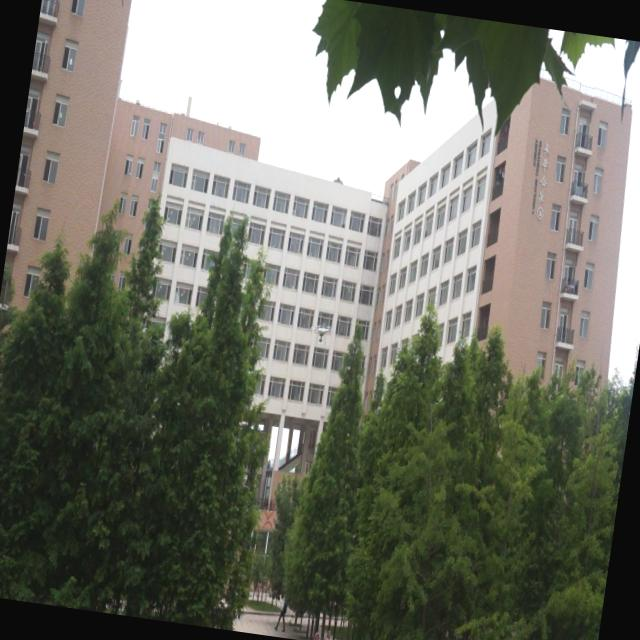drone: (310, 319, 331, 343)
